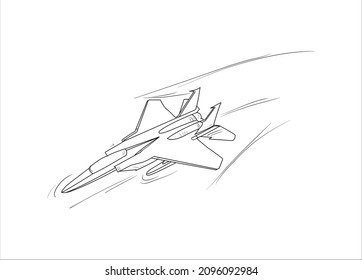airplane: (60, 86, 237, 195)
